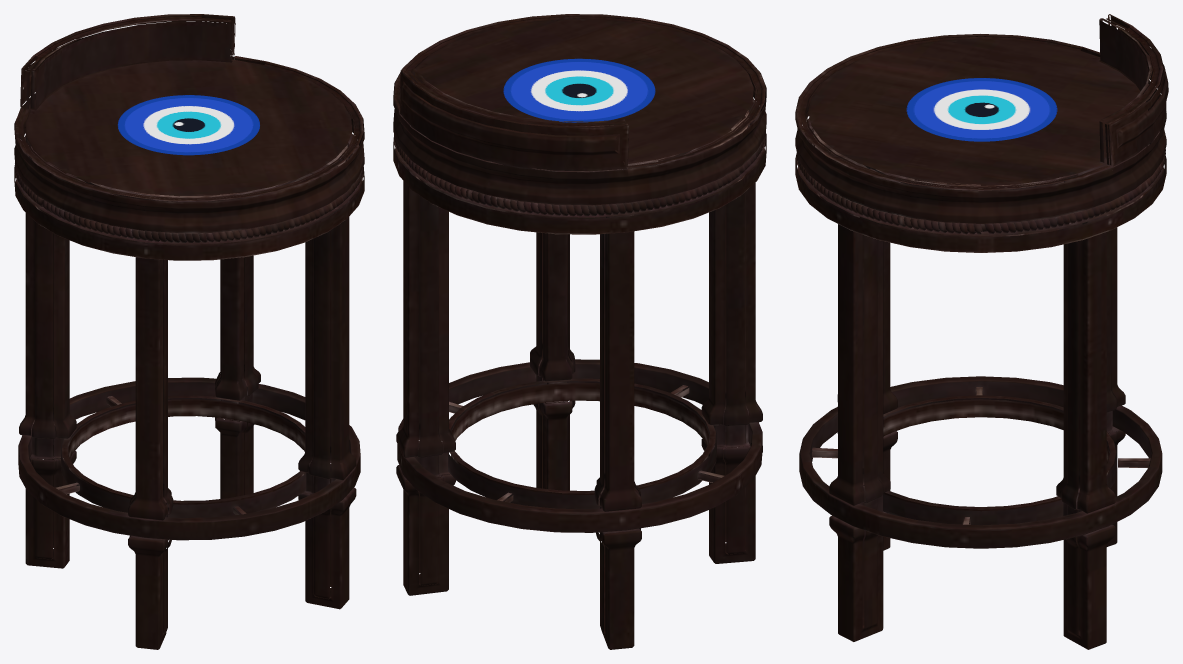
The model's file is nyb_cocktail_stool.glb.
3 views of the same model, side by side, from view 1: azimuth 30°, elevation 25°; view 2: azimuth 150°, elevation 25°; view 3: azimuth 270°, elevation 25° (orthographic). The views are drawn at different scales.
Visible parts, largest first — view 1: bar_chair_round_01, stk_nazar.png; view 2: bar_chair_round_01, stk_nazar.png; view 3: bar_chair_round_01, stk_nazar.png.
Boxes of the visible parts, <box> form: bar_chair_round_01: <box>14,14,364,649</box>; stk_nazar.png: <box>117,95,259,155</box>; bar_chair_round_01: <box>393,14,766,649</box>; stk_nazar.png: <box>503,58,655,122</box>; bar_chair_round_01: <box>795,14,1168,649</box>; stk_nazar.png: <box>906,78,1057,141</box>.
Size of the model in its own units: 0.4831 by 0.7505 by 0.486.
2 materials, 2 textured.
